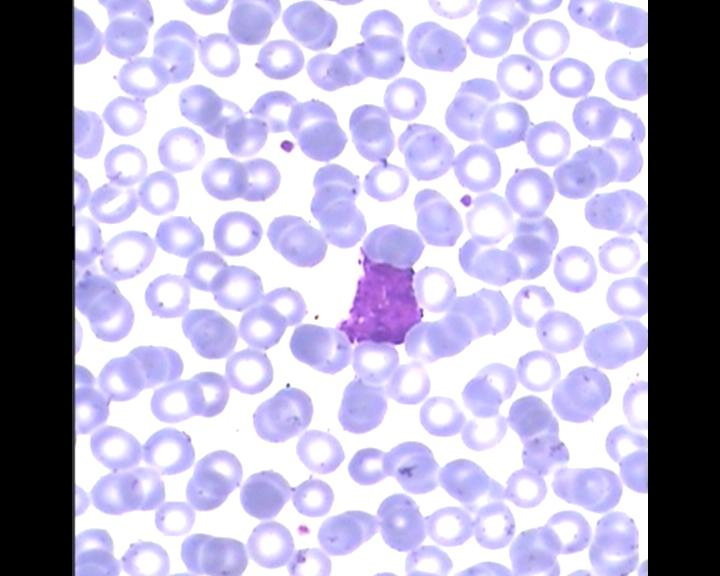baso: (330, 250, 430, 353)
